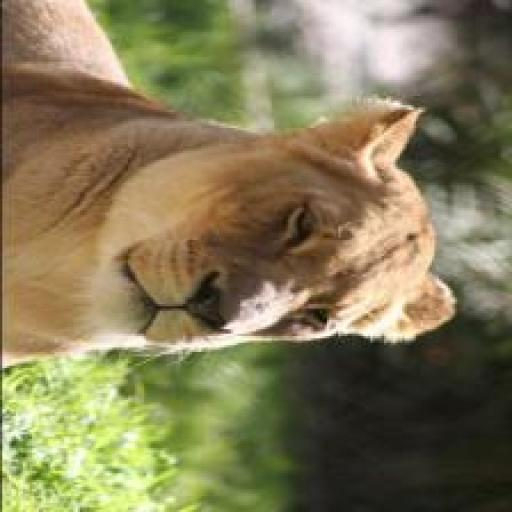lion: (2, 2, 470, 372)
